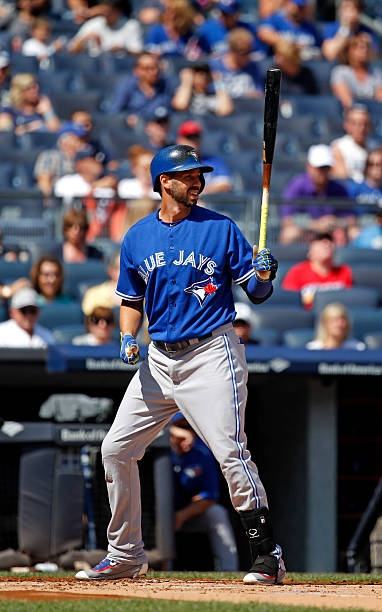bita: (251, 61, 285, 278)
